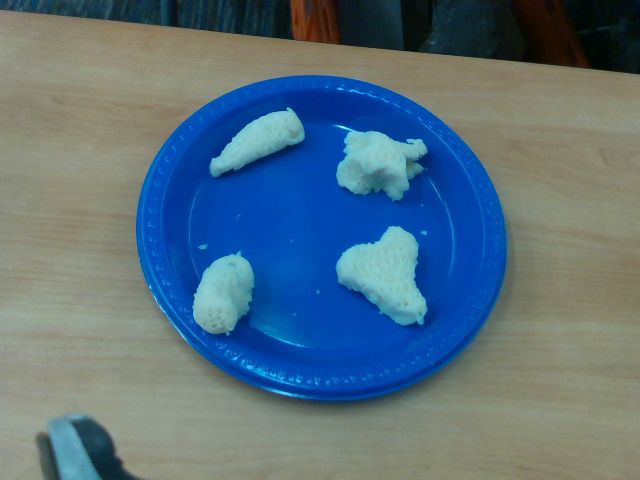mashed_potato: (336, 226, 428, 325), (336, 130, 427, 200), (210, 109, 304, 176), (193, 254, 255, 334)
